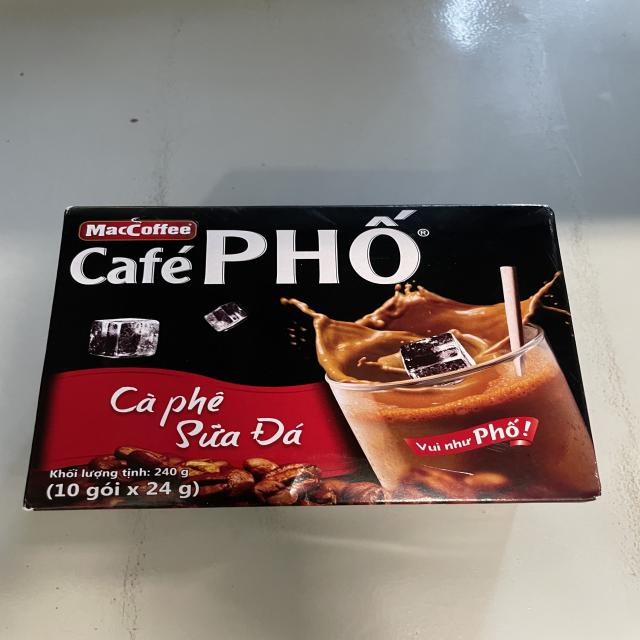object_name: (44, 211, 587, 506)
